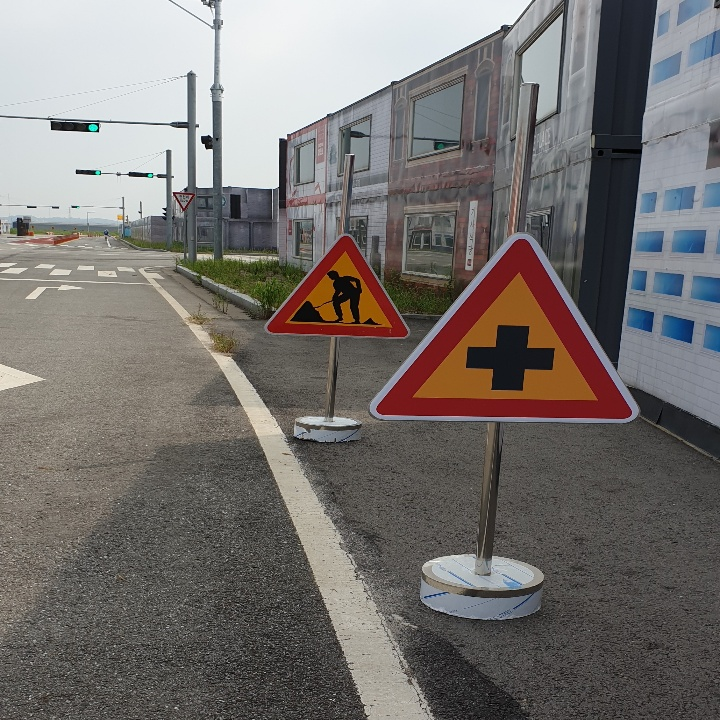const: (291, 262, 385, 326)
inter: (458, 317, 564, 398)
